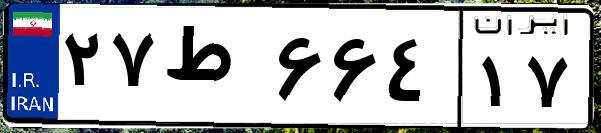1: (475, 38, 525, 113)
2: (57, 26, 110, 100)
4: (385, 28, 445, 110)
6: (270, 28, 330, 110), (330, 28, 385, 110)
7: (525, 38, 570, 115), (110, 28, 158, 98)
ط: (158, 20, 270, 120)
